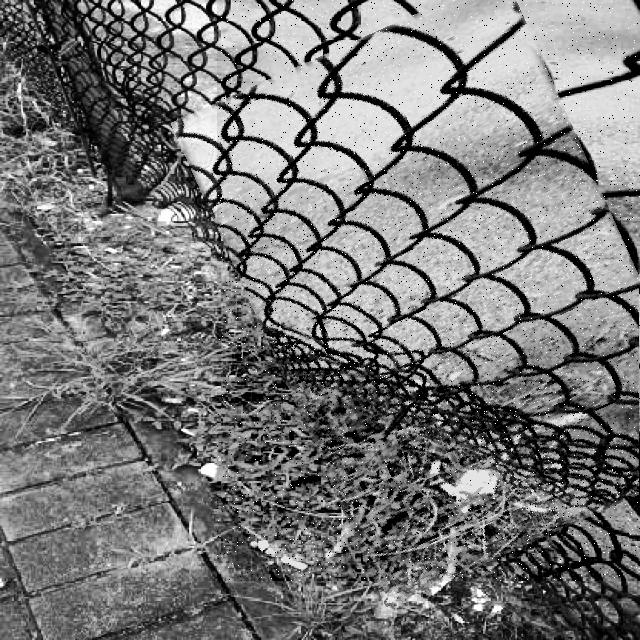fences: (217, 0, 640, 581)
